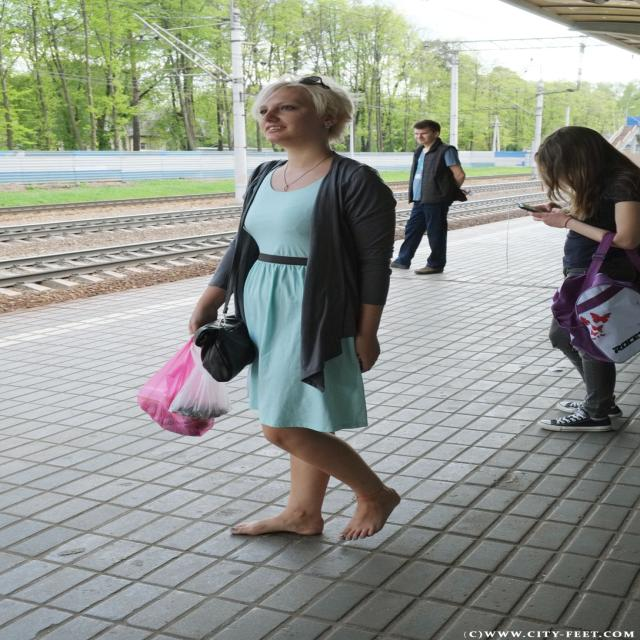Barefoots: (338, 487, 401, 541), (229, 514, 324, 536)
